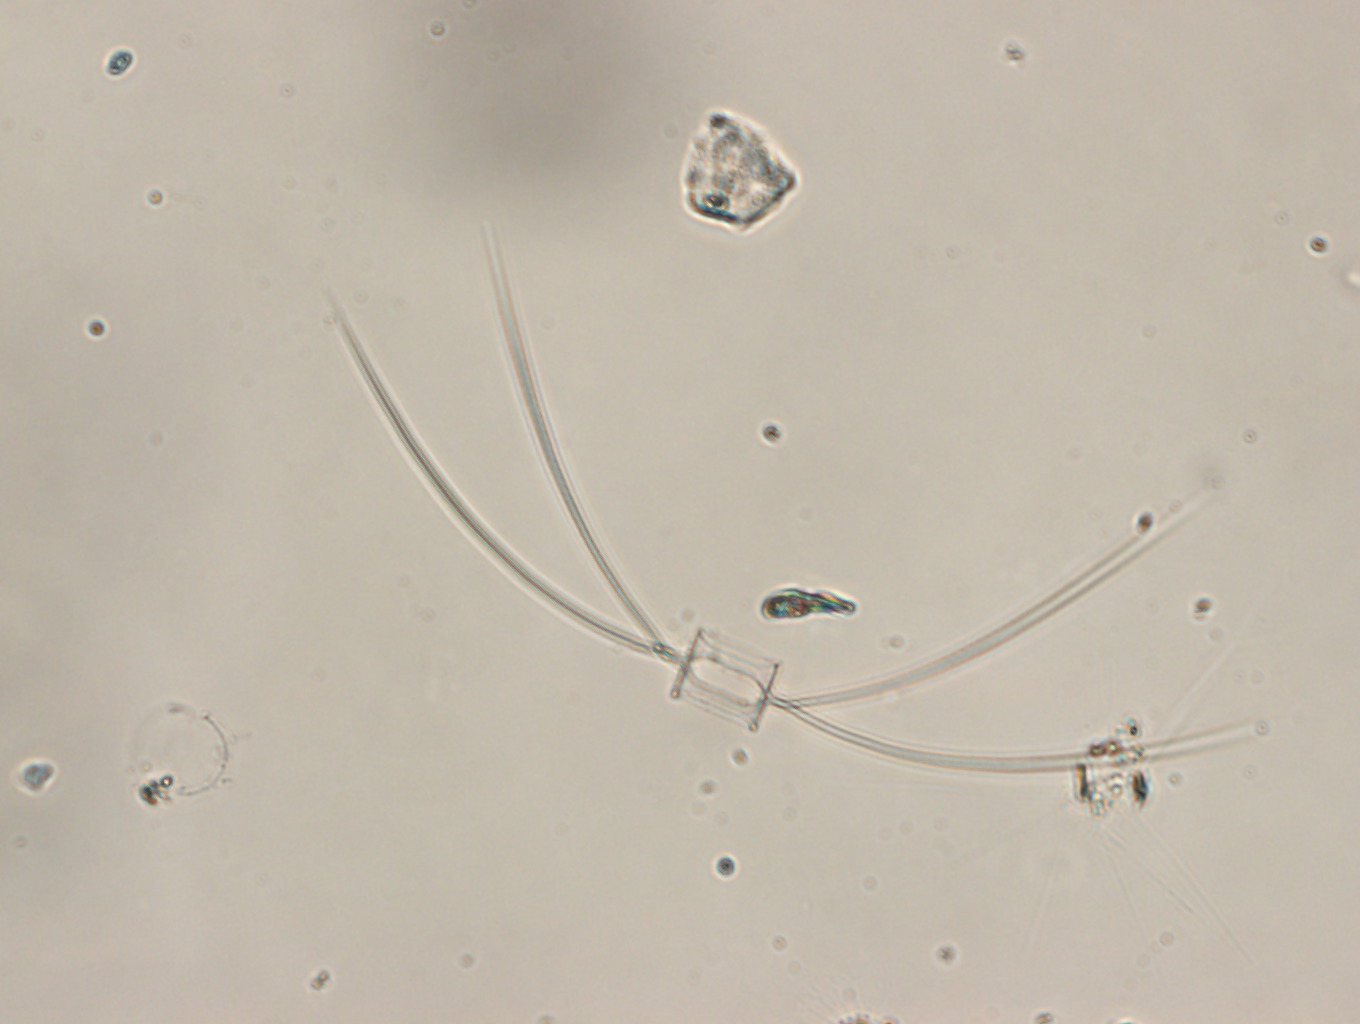chaetoceros: (324, 216, 1257, 776)
